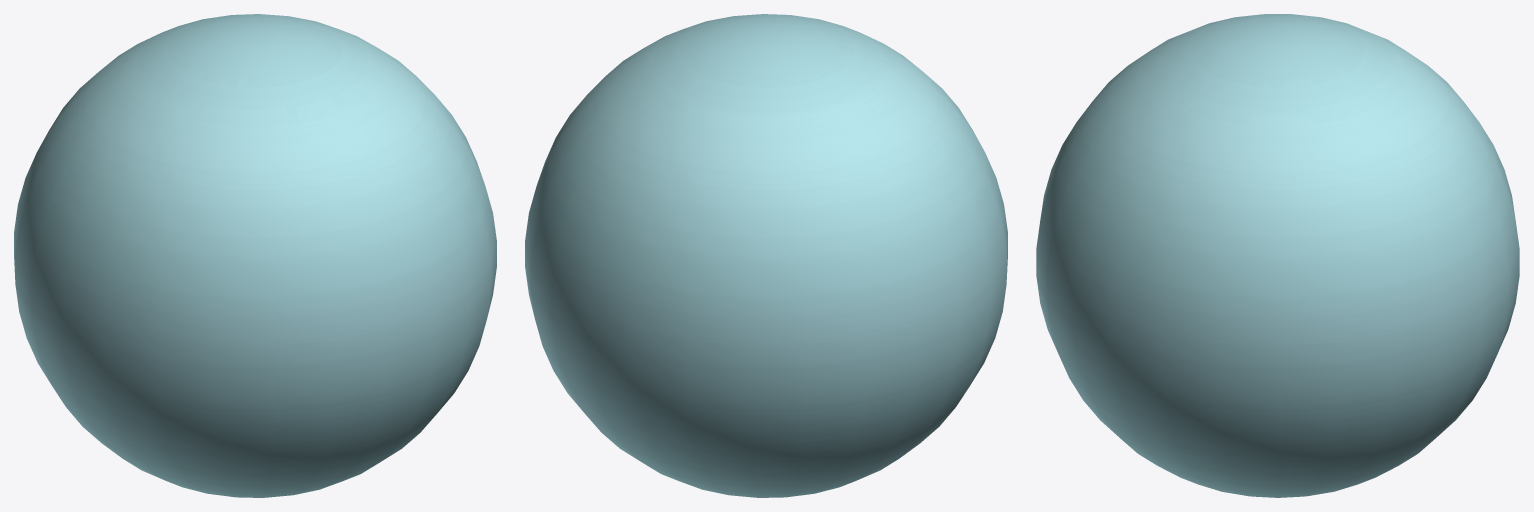
Rendered from uranus.obj.
The picture shows the model from 3 angles, left to right: view 1: azimuth 30°, elevation 25°; view 2: azimuth 150°, elevation 25°; view 3: azimuth 270°, elevation 25°; orthographic projection.
Parts seen in each view (by area): view 1: uranus; view 2: uranus; view 3: uranus.
Part boxes in pixels (<box>): uranus: <box>14,14,496,497</box>; uranus: <box>525,14,1007,497</box>; uranus: <box>1036,14,1519,497</box>.
Bounding box in the file's own units: 38.71 × 38.94 × 38.78.
Materials: 1 (1 with a texture image).
